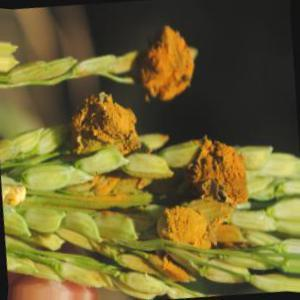Leaf_Scald: (143, 36, 194, 100), (167, 206, 237, 250), (199, 138, 244, 205), (79, 95, 130, 150), (82, 168, 136, 205), (153, 245, 190, 283)
